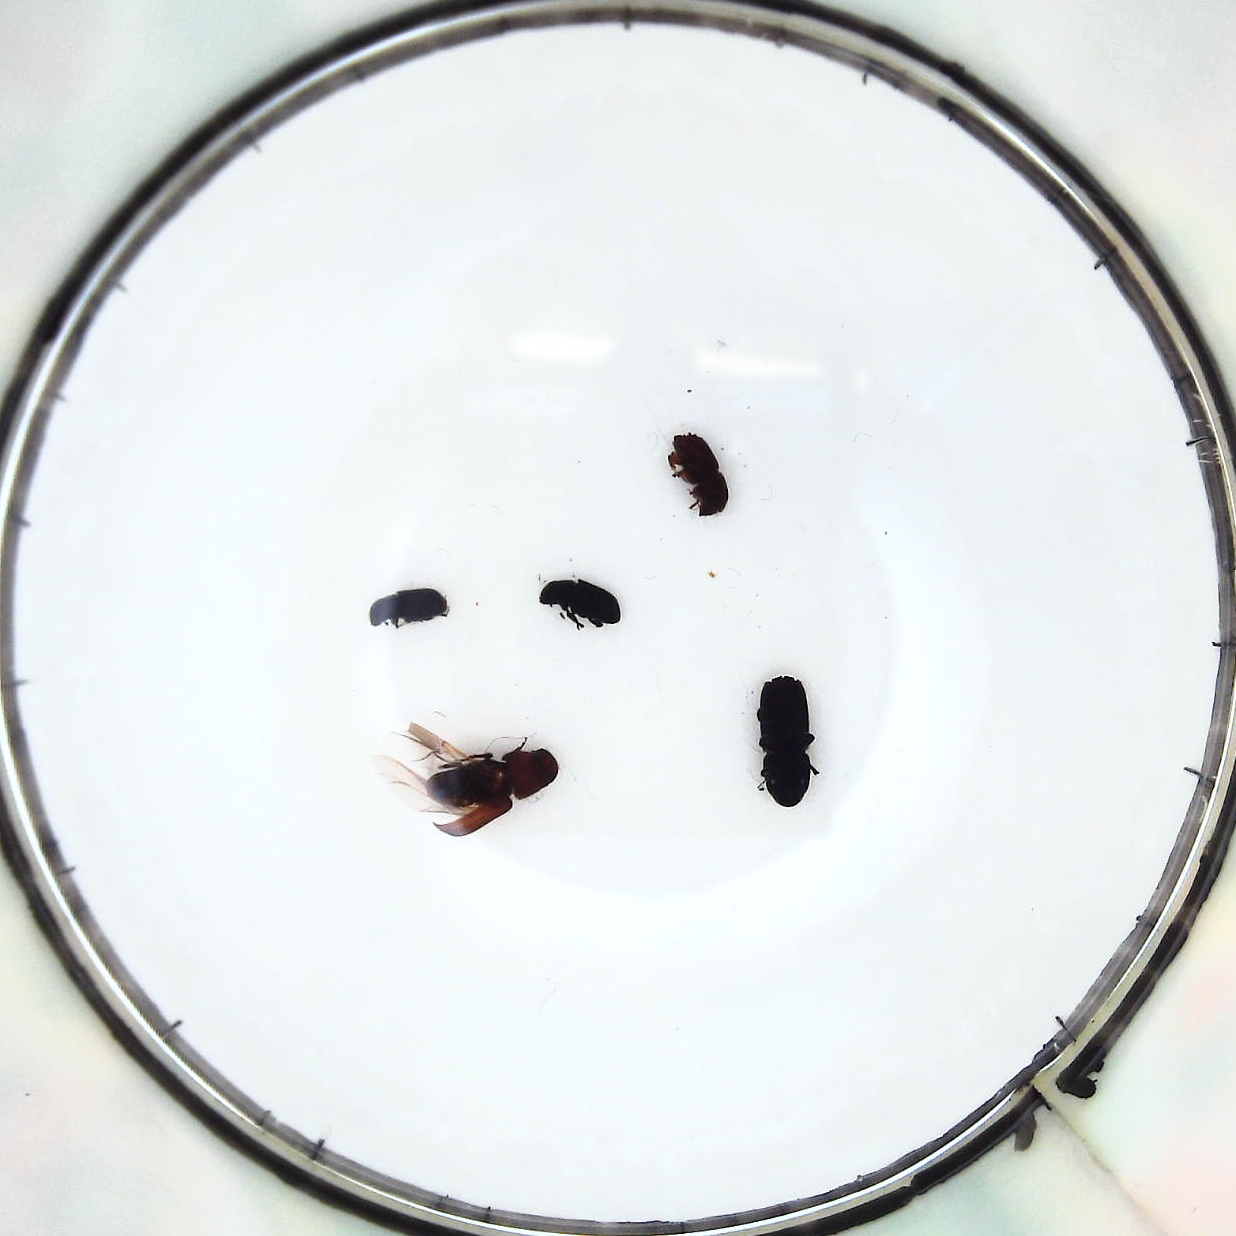Boerner: (754, 676, 819, 810)
Leconte: (402, 726, 558, 832)
Linnaeus: (666, 427, 729, 517)
armandi: (366, 583, 450, 637), (539, 578, 624, 627)
